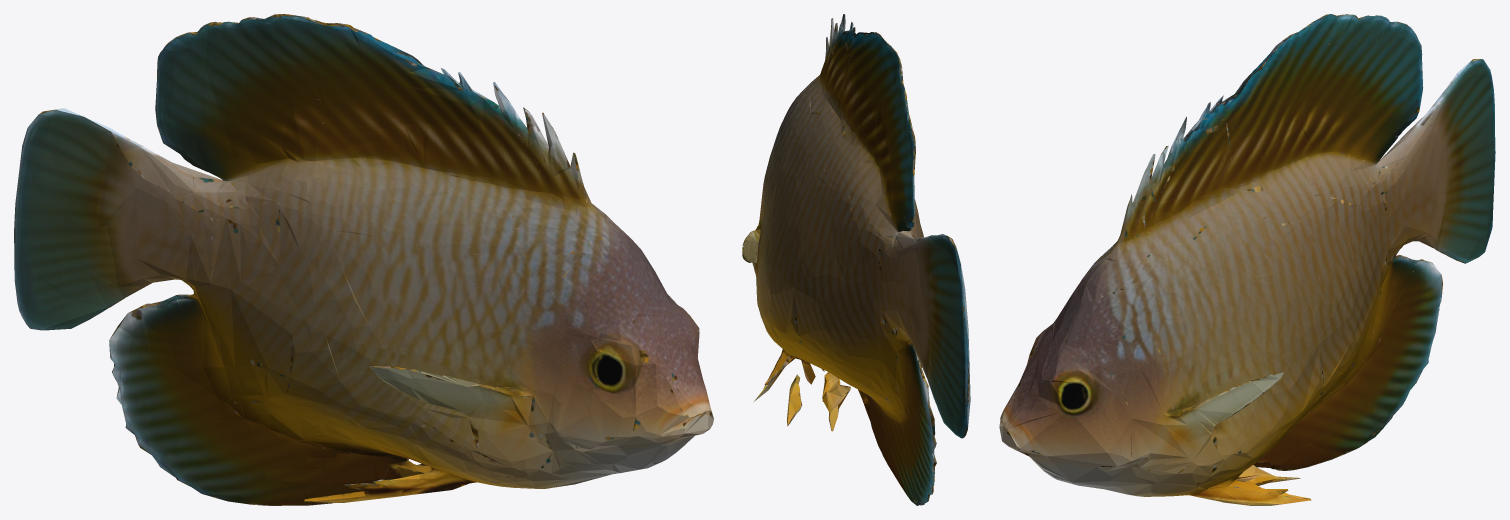
File: fish_0123_smpl23_resized.glb
3 views of the same model, side by side, from view 1: azimuth 30°, elevation 25°; view 2: azimuth 150°, elevation 25°; view 3: azimuth 270°, elevation 25° (orthographic). The views are drawn at different scales.
Visible parts, largest first — view 1: world; view 2: world; view 3: world.
Part boxes in pixels (x1,y1,x2,y2): world: (14, 14, 713, 505); world: (742, 14, 970, 505); world: (999, 14, 1495, 505).
Size of the model in its own units: 1.88 by 1.98 by 1.98.
1 material, 1 textured.
